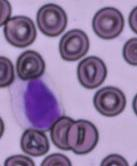L: (9, 74, 65, 131)
